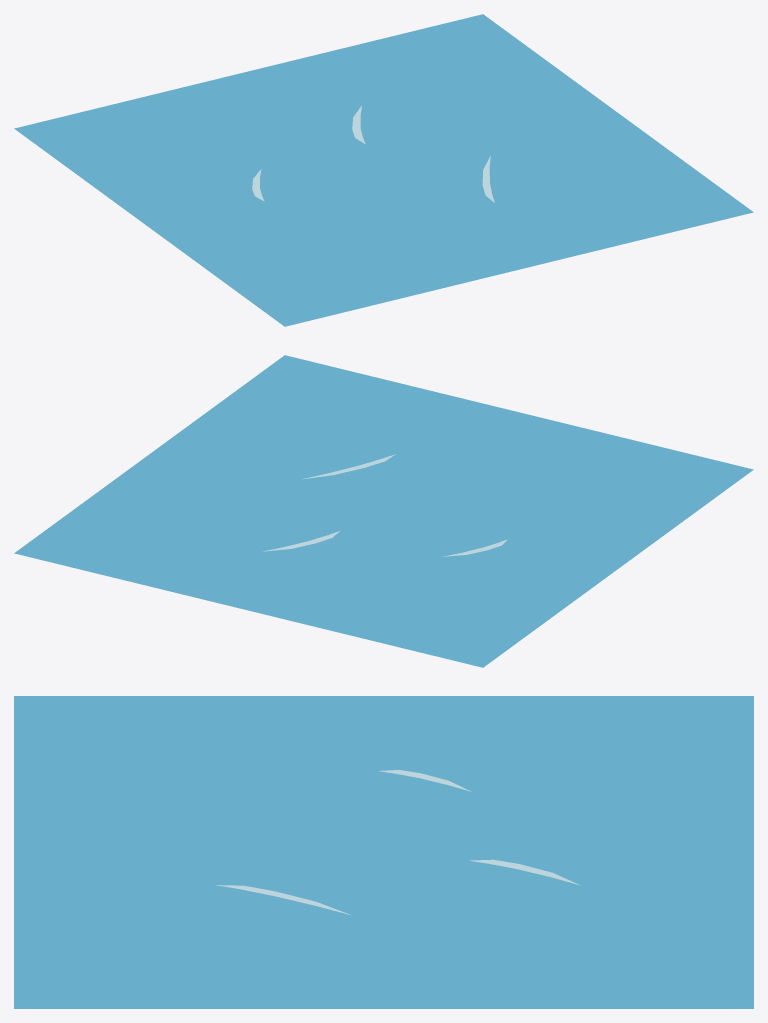
File: tile_water.fbx
3 renders of one model, top to bottom at view 1: azimuth 30°, elevation 25°; view 2: azimuth 150°, elevation 25°; view 3: azimuth 270°, elevation 25°, orthographic. The views are drawn at different scales.
Parts seen in each view (by area): view 1: tile_water; view 2: tile_water; view 3: tile_water.
Part boxes in pixels (box(x1,y1,x2,y2)): tile_water: box(14, 14, 753, 326); tile_water: box(14, 355, 753, 667); tile_water: box(14, 696, 753, 1008).
Bounding box in the file's own units: 1 × 0.0005 × 1.
